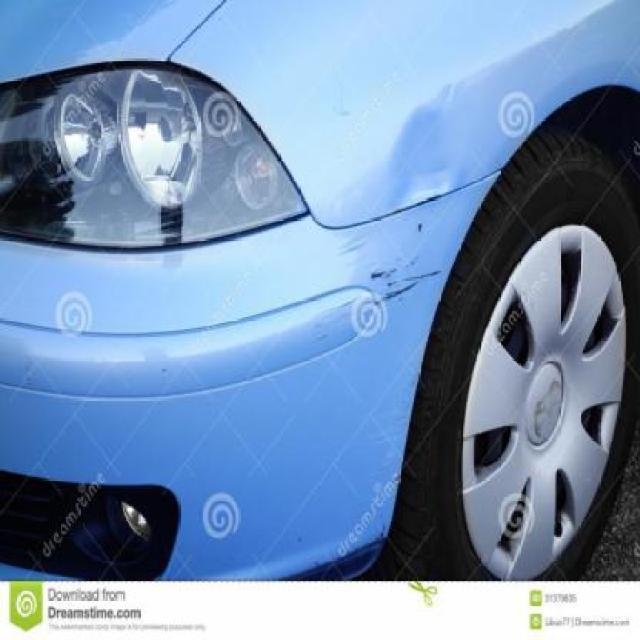fender-dent: (349, 67, 500, 206)
front-bumper-scratch: (349, 188, 485, 342)
